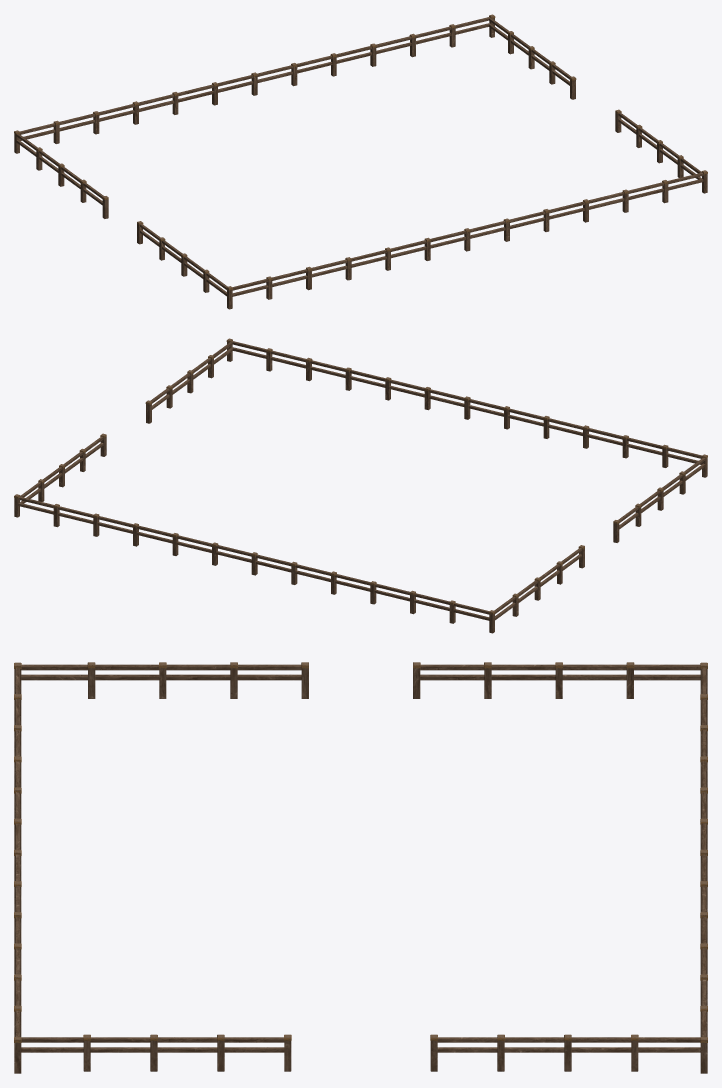
Rendered from UpperLandingRail.fbx.
3 views of the same model, one above another, from view 1: azimuth 30°, elevation 25°; view 2: azimuth 150°, elevation 25°; view 3: azimuth 270°, elevation 25° (orthographic). The views are drawn at different scales.
Visible parts, largest first — view 1: UpperLandingRail_LOD0; view 2: UpperLandingRail_LOD0; view 3: UpperLandingRail_LOD0.
Part boxes in pixels (x1,y1,x2,y2): UpperLandingRail_LOD0: (14, 14, 707, 309); UpperLandingRail_LOD0: (14, 338, 707, 633); UpperLandingRail_LOD0: (14, 662, 707, 1073).
Size of what is drawn, in the model's own units: 28.08 by 1.18 by 21.8.
4 materials, 4 textured.
